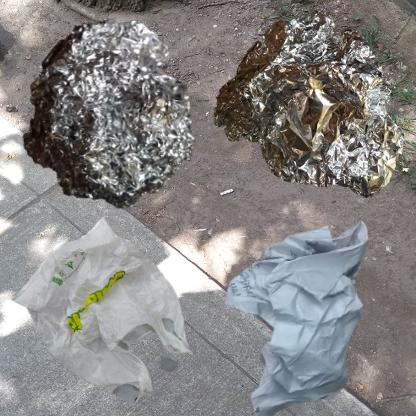aluminio: (10, 10, 204, 223), (213, 10, 406, 198)
bolsa: (10, 213, 194, 409)
papel: (213, 213, 406, 416)
